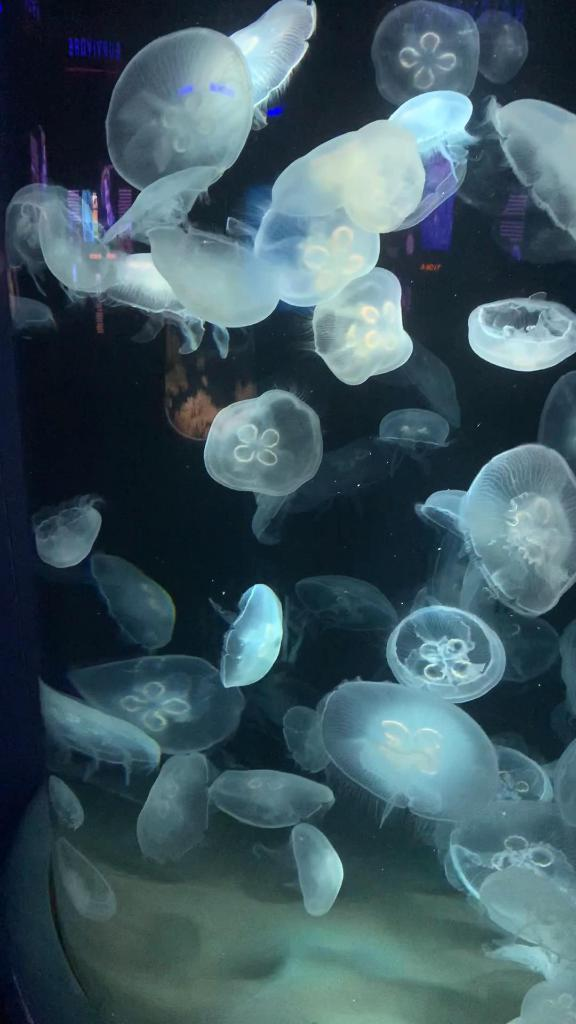jellyfish: (101, 26, 266, 194), (313, 678, 499, 826), (457, 444, 575, 622), (11, 177, 143, 311), (148, 217, 290, 341), (270, 122, 424, 234), (79, 648, 244, 752), (441, 808, 575, 914), (253, 195, 383, 303), (318, 261, 420, 395), (200, 391, 326, 499), (380, 605, 510, 709), (362, 0, 492, 101), (38, 680, 166, 774), (462, 850, 574, 956), (496, 88, 574, 238), (220, 0, 332, 104), (463, 296, 575, 380), (93, 550, 185, 652), (133, 746, 211, 862), (212, 588, 295, 696), (210, 764, 330, 830), (402, 81, 480, 163), (289, 824, 349, 922), (482, 734, 554, 814), (297, 574, 395, 630), (58, 844, 122, 924), (32, 500, 102, 568), (472, 8, 528, 86), (282, 700, 338, 774), (506, 966, 574, 1022), (383, 407, 451, 447), (39, 776, 85, 828)
